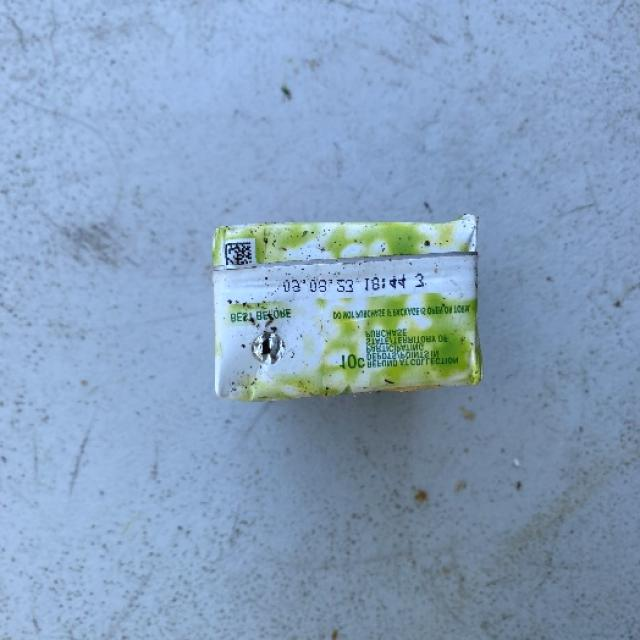kertas: (168, 191, 486, 439)
